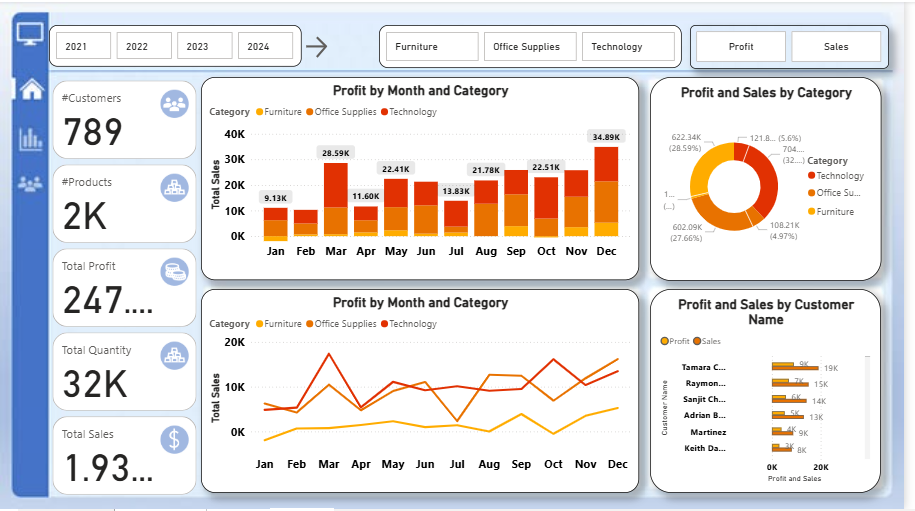

Layout of this report page (visuals, bound fields, positions):
{"tool":"powerbi","page":{"name":"Overview","canvas":[1280,720],"ordinal":0},"visuals":[{"type":"cardVisual","fields":{"Data":["Measures (2).#Customers","Measures (2).#Products","Measures (2).Total Profit","Measures (2).Total Quantity","Measures (2).Total Sales"]},"box":[69.9,108.2,214.7,599.2],"z":0},{"type":"columnChart","fields":{"Y":["Measures (2).Total Profit"],"Category":["DimDate.Year Hierarchy.Year","DimDate.Year Hierarchy.Qtr","DimDate.Year Hierarchy.Month"],"Series":["Dim Product.Category"]},"box":[284.6,108.2,620.9,288],"z":1000},{"type":"advancedSlicerVisual","fields":{"Values":["Parameter.Parameter"]},"box":[977.5,34.2,282,61.5],"z":2000},{"type":"bookmarkNavigator","box":[579.2,443.4,267.4,50.1],"z":3000},{"type":"donutChart","fields":{"Y":["Measures (2).Total Profit","Measures (2).Total Sales"],"Category":["Dim Product.Category"]},"box":[921.1,107.7,328.1,288.8],"z":4000},{"type":"clusteredBarChart","fields":{"Y":["Measures (2).Total Profit","Measures (2).Total Sales"],"Category":["Dim Customer.Customer Name"]},"box":[921.3,408.2,327.4,289.1],"z":5000},{"type":"actionButton","box":[427.6,45.8,124.4,40],"z":6000},{"type":"lineChart","fields":{"Y":["Measures (2).Total Profit"],"Category":["DimDate.Year Hierarchy.Year","DimDate.Year Hierarchy.Qtr","DimDate.Year Hierarchy.Month"],"Series":["Dim Product.Category"]},"box":[284.9,408.2,620.8,289.1],"z":7000},{"type":"advancedSlicerVisual","fields":{"Values":["DimDate.Year"]},"box":[70.1,34.3,357.5,58.6],"z":8000},{"type":"advancedSlicerVisual","fields":{"Values":["Dim Product.Category"]},"box":[537.7,34.3,429.1,61.5],"z":9000}]}

Visuals, with their boxes on the page's 1280x720 design canvas (x1, y1, x2, y2). These are canvas units, not pixel positions in the 915x511 screenshot, which may show the page scaled, cropped or inside an application window:
cardVisual - Measures (2).#Customers x Measures (2).#Products: box(70, 108, 285, 707)
columnChart - Measures (2).Total Profit x DimDate.Year Hierarchy.Year: box(285, 108, 906, 396)
advancedSlicerVisual - Parameter.Parameter: box(978, 34, 1260, 96)
bookmarkNavigator: box(579, 443, 847, 494)
donutChart - Measures (2).Total Profit x Measures (2).Total Sales: box(921, 108, 1249, 396)
clusteredBarChart - Measures (2).Total Profit x Measures (2).Total Sales: box(921, 408, 1249, 697)
actionButton: box(428, 46, 552, 86)
lineChart - Measures (2).Total Profit x DimDate.Year Hierarchy.Year: box(285, 408, 906, 697)
advancedSlicerVisual - DimDate.Year: box(70, 34, 428, 93)
advancedSlicerVisual - Dim Product.Category: box(538, 34, 967, 96)
